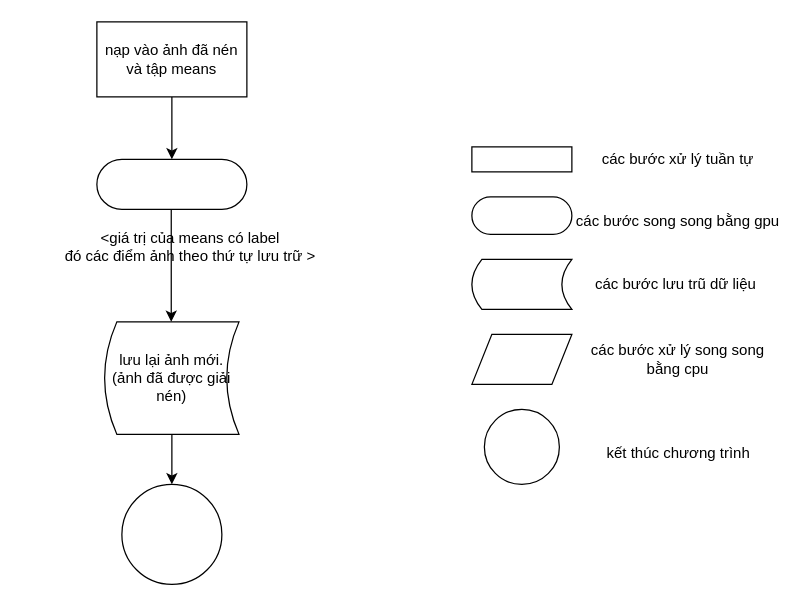
This 805x606 diagram has some shape labels left out. The centre of each missing label's shape, as x and y in pixels:
decode_model: (x=171, y=183)
end: (x=171, y=533)
